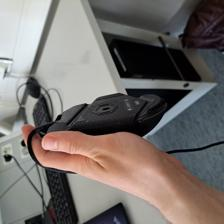mouse: (39, 92, 167, 140)
